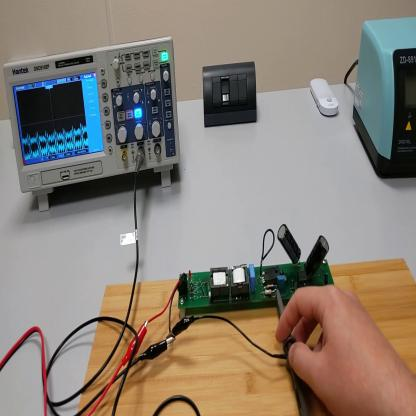hand: (277, 282, 404, 415)
high voltage board: (145, 224, 338, 343)
oscilloscope: (3, 37, 181, 214)
oscilloscope probe tip: (276, 289, 314, 416)
welder station: (353, 18, 416, 182)
working area: (79, 260, 416, 415)
